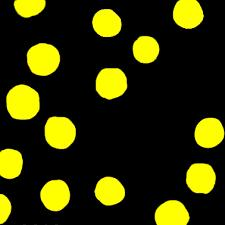cell: (8, 85, 40, 120), (27, 43, 60, 75), (96, 68, 128, 100), (172, 0, 204, 30), (45, 117, 77, 147), (195, 117, 223, 149), (156, 199, 191, 224), (41, 181, 71, 210), (186, 163, 215, 193), (93, 9, 122, 38), (94, 180, 126, 203), (0, 149, 23, 179), (134, 36, 158, 64), (15, 1, 45, 16), (0, 194, 12, 225)
